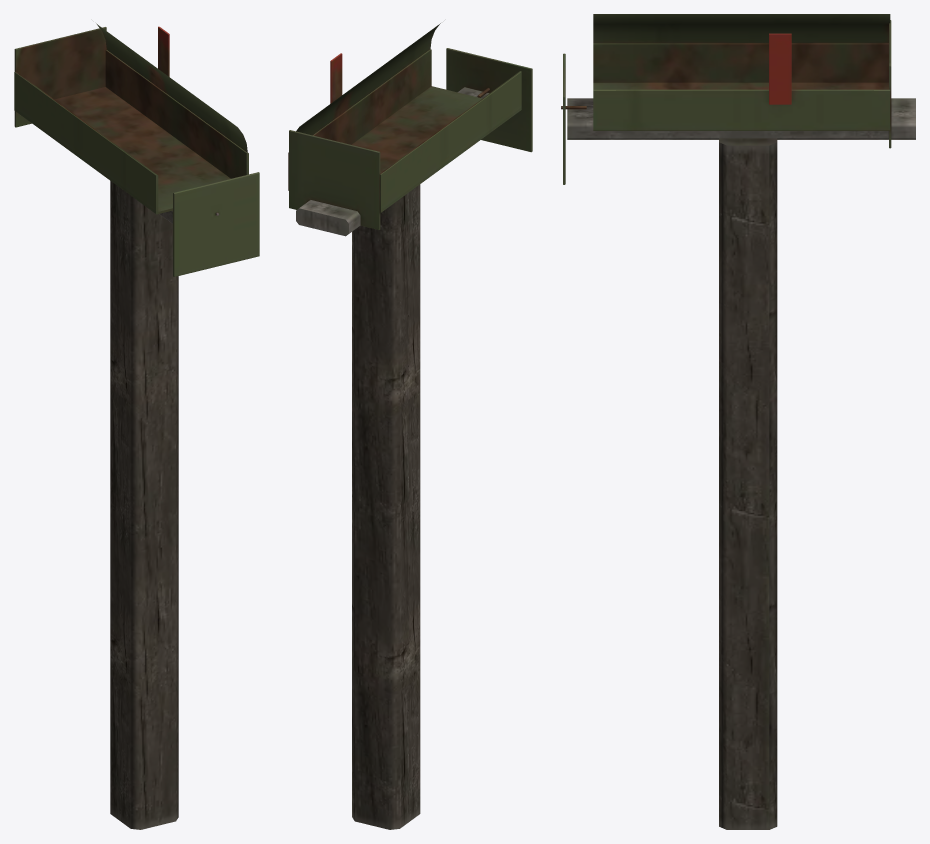
File: mailbox.glb
3 views of the same model, side by side, from view 1: azimuth 30°, elevation 25°; view 2: azimuth 150°, elevation 25°; view 3: azimuth 270°, elevation 25° (orthographic). The views are drawn at different scales.
Parts seen in each view (by area): view 1: mailbox; view 2: mailbox; view 3: mailbox.
Boxes of the visible parts, box(x1,y1,x2,y2) form: mailbox: box(14, 23, 259, 829); mailbox: box(288, 23, 532, 829); mailbox: box(561, 14, 915, 829).
Bounding box in the file's own units: 0.1835 × 1.37 × 0.55.
1 material, 1 textured.
